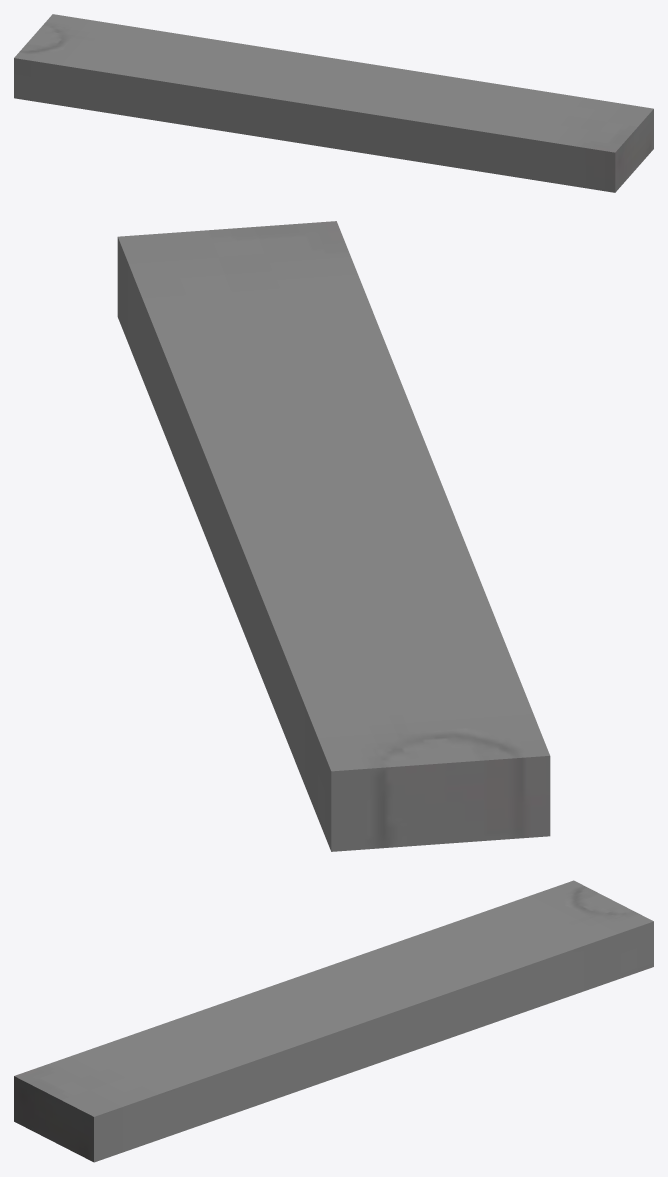
File: rear_support__rear_strut_1.glb
The picture shows the model from 3 angles, top to bottom: view 1: azimuth 30°, elevation 25°; view 2: azimuth 150°, elevation 25°; view 3: azimuth 270°, elevation 25°; orthographic projection. The views are drawn at different scales.
Parts seen in each view (by area): view 1: world; view 2: world; view 3: world.
Part boxes in pixels (x1=…): world: x1=14, y1=14, x2=653, y2=192; world: x1=117, y1=221, x2=550, y2=851; world: x1=14, y1=880, x2=653, y2=1162.
Bounding box in the file's own units: 0.2003 × 0.018 × 0.2291.
1 material, 1 textured.
